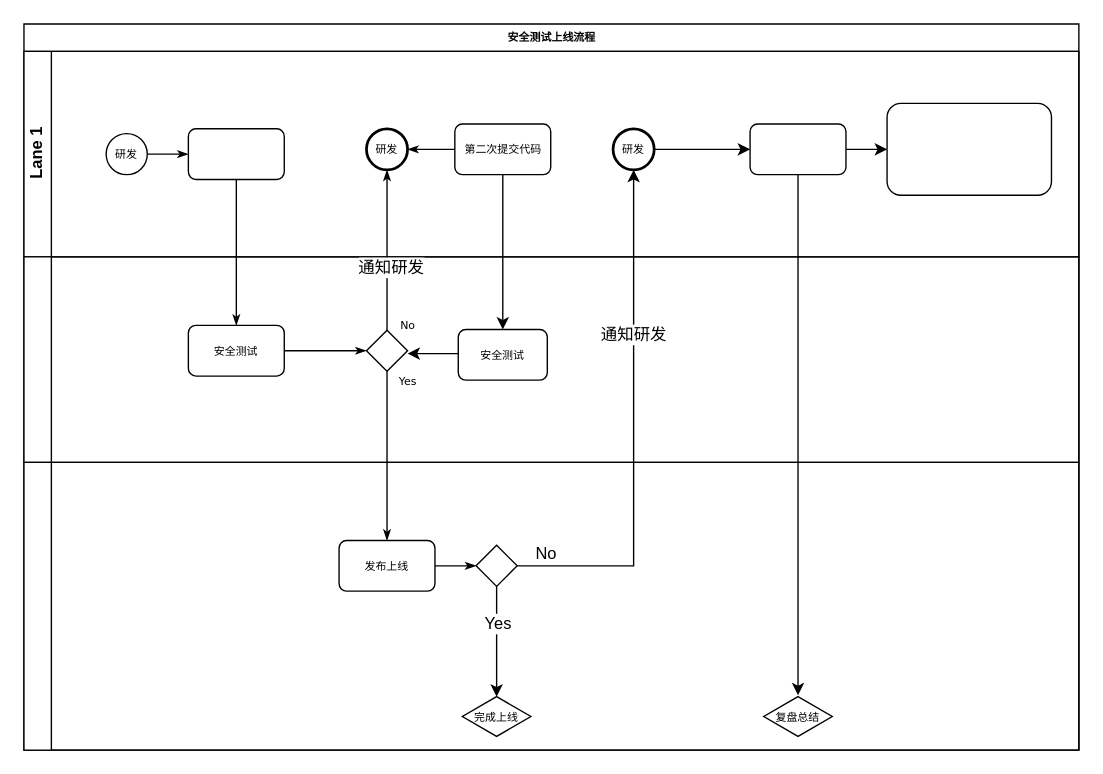
Some shapes in this 1103 by 774 pixel diagram are drawn without their labels. Here are the shapes that lost their labels. From the top down, the box of each, then its label:
(187, 127, 284, 179): 第一次提交代码
(749, 123, 846, 175): 限期整改
(886, 102, 1051, 195): 1.参考测试系统安全修改建议 2.给出整改方案及期限
(23, 256, 1079, 462): Lane 2
(23, 461, 1079, 750): Lane 3
